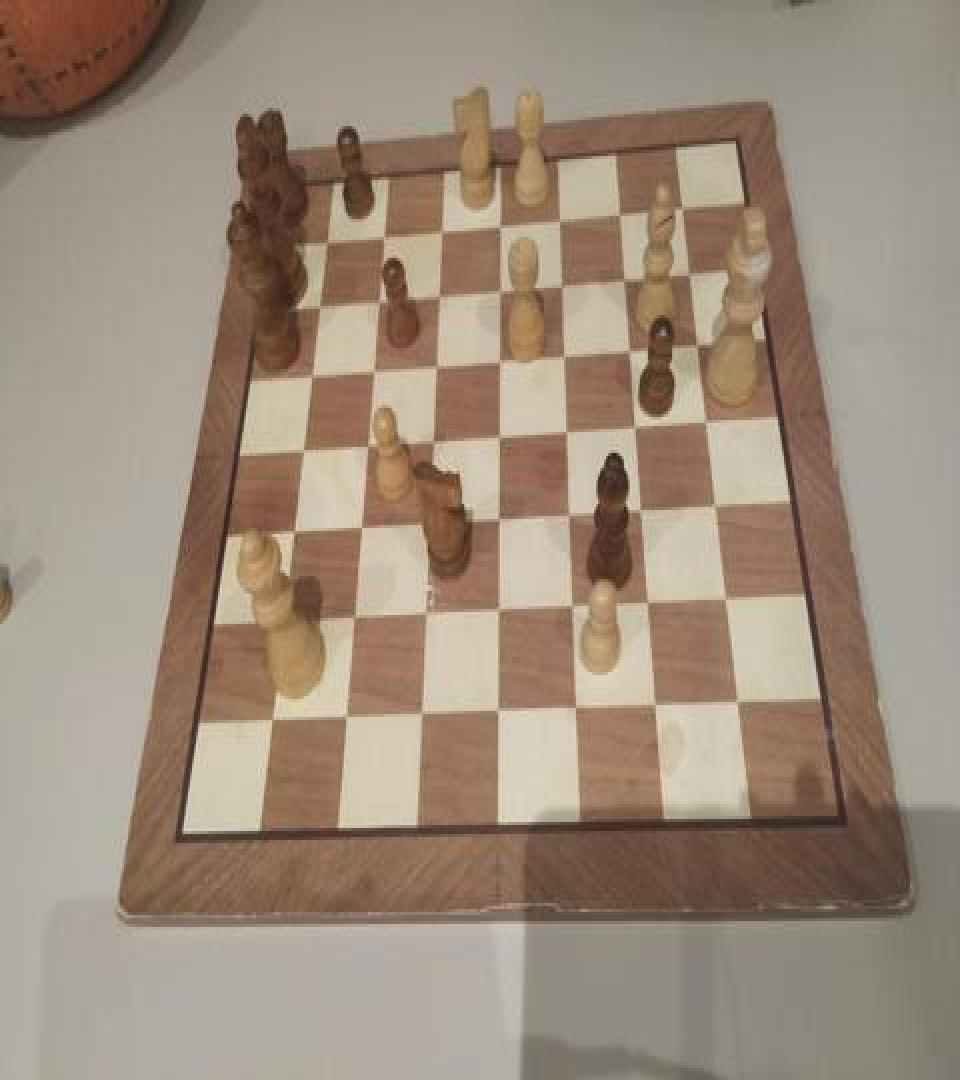xcorner: (561, 499, 581, 530), (316, 223, 336, 254), (260, 708, 280, 738), (335, 705, 355, 735), (411, 702, 431, 732), (489, 699, 509, 729), (567, 696, 587, 726), (648, 693, 668, 723), (729, 690, 749, 720), (343, 603, 363, 633), (415, 600, 435, 630), (489, 597, 509, 627), (564, 592, 584, 622), (640, 590, 660, 620), (717, 585, 737, 615), (282, 516, 302, 546), (350, 512, 370, 542), (419, 508, 439, 538), (489, 504, 509, 534), (633, 495, 653, 525), (706, 490, 726, 520), (292, 434, 312, 464), (357, 429, 377, 459), (423, 424, 443, 454), (490, 420, 510, 450), (558, 416, 578, 446), (627, 410, 647, 440), (696, 405, 716, 435), (301, 357, 321, 387), (363, 352, 383, 382), (426, 348, 446, 378), (490, 344, 510, 374), (555, 338, 575, 368), (621, 333, 641, 363), (688, 327, 708, 357), (309, 288, 329, 318), (369, 284, 389, 314), (429, 278, 449, 308), (490, 273, 510, 303), (552, 267, 572, 297), (615, 262, 635, 292), (679, 256, 699, 286), (374, 219, 394, 249), (432, 213, 452, 243), (491, 208, 511, 238), (550, 202, 570, 232), (611, 196, 631, 226), (672, 190, 692, 220), (272, 608, 292, 637)
